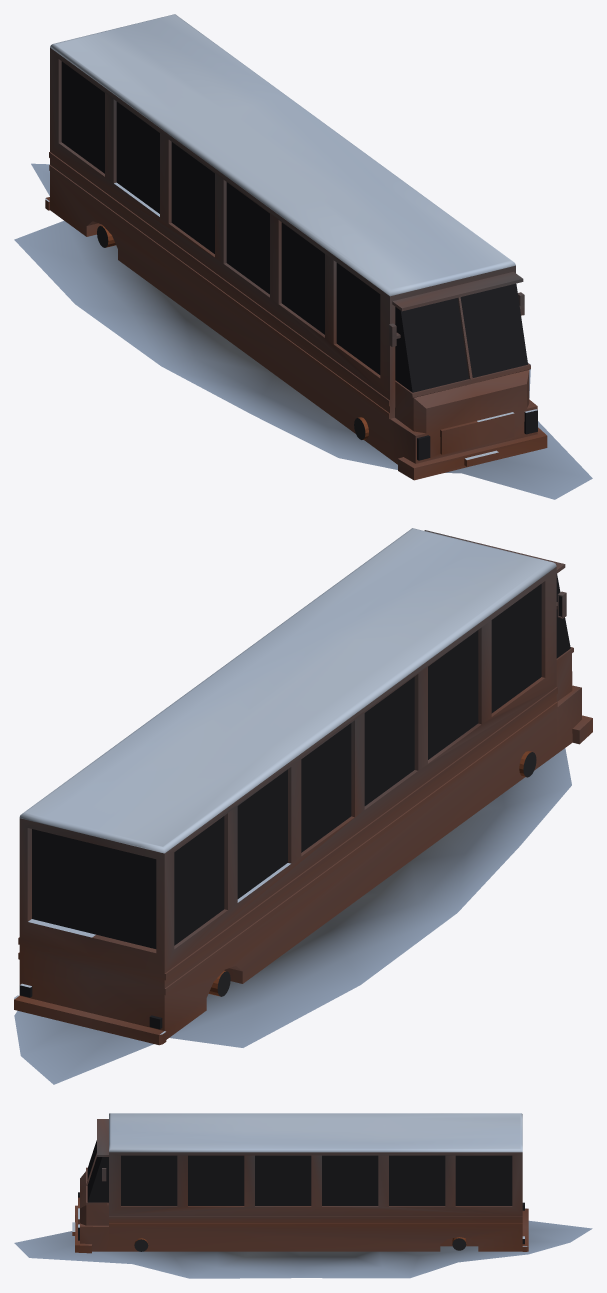
Rendered from bus_burnt.glb.
3 renders of one model, top to bottom at view 1: azimuth 30°, elevation 25°; view 2: azimuth 150°, elevation 25°; view 3: azimuth 270°, elevation 25°, orthographic. The views are drawn at different scales.
Visible parts, largest first — view 1: Body; view 2: Body; view 3: Body.
Boxes of the visible parts, x1,y1,x2,y2 form: Body: [14, 14, 592, 499]; Body: [14, 528, 592, 1084]; Body: [14, 1113, 592, 1278].
Size of the model in its own units: 5.18 by 3.05 by 15.23.
